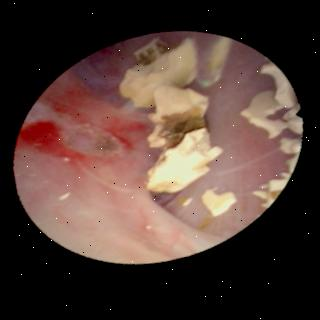stone: (119, 41, 221, 195), (242, 65, 301, 143), (253, 141, 299, 209), (202, 191, 236, 219), (178, 200, 192, 209)
tissue: (19, 44, 277, 259)
